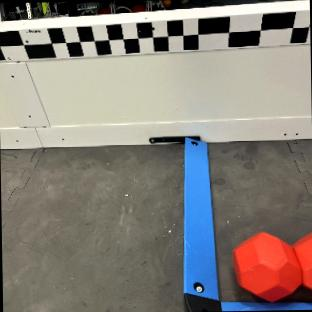V5_RED: (233, 229, 312, 303)
